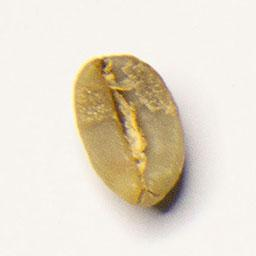longberry: (67, 47, 193, 213)
